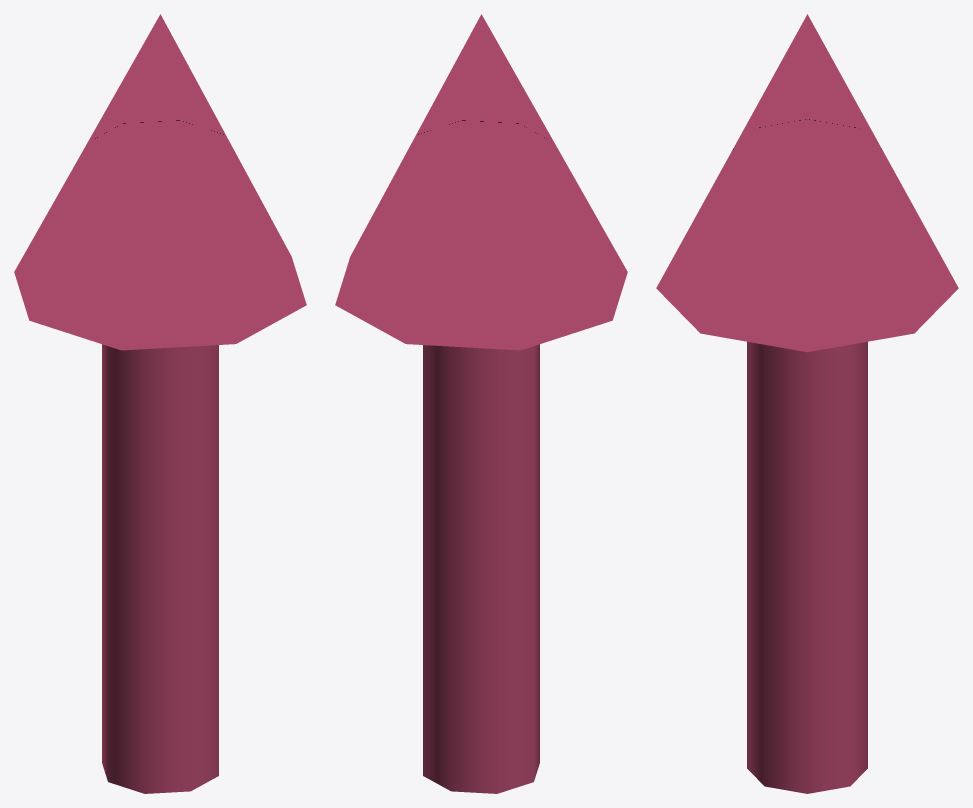
The model's file is arrow.glb.
3 renders of one model, left to right at view 1: azimuth 30°, elevation 25°; view 2: azimuth 150°, elevation 25°; view 3: azimuth 270°, elevation 25°, orthographic.
Parts seen in each view (by area): view 1: Arrow3D; view 2: Arrow3D; view 3: Arrow3D.
Boxes of the visible parts, x1,y1,x2,y2 form: Arrow3D: [14, 14, 306, 793]; Arrow3D: [335, 14, 627, 793]; Arrow3D: [656, 14, 958, 793].
Bounding box in the file's own units: 0.2 × 0.55 × 0.2.
